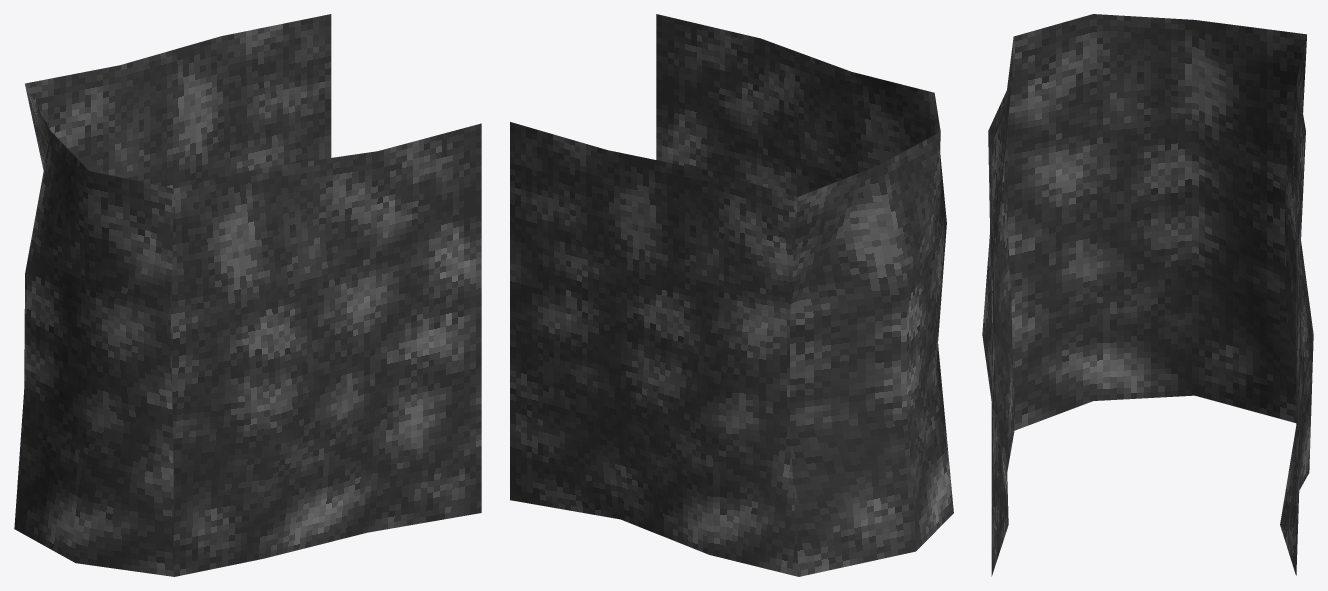
Rendered from U Piece.fbx.
3 views of the same model, side by side, from view 1: azimuth 30°, elevation 25°; view 2: azimuth 150°, elevation 25°; view 3: azimuth 270°, elevation 25° (orthographic). The views are drawn at different scales.
Visible parts, largest first — view 1: U Piece; view 2: U Piece; view 3: U Piece.
Part boxes in pixels (x1=…): U Piece: x1=14, y1=14, x2=481, y2=576; U Piece: x1=510, y1=14, x2=953, y2=576; U Piece: x1=982, y1=14, x2=1313, y2=576.
Size of the model in its own units: 197 by 200 by 152.
